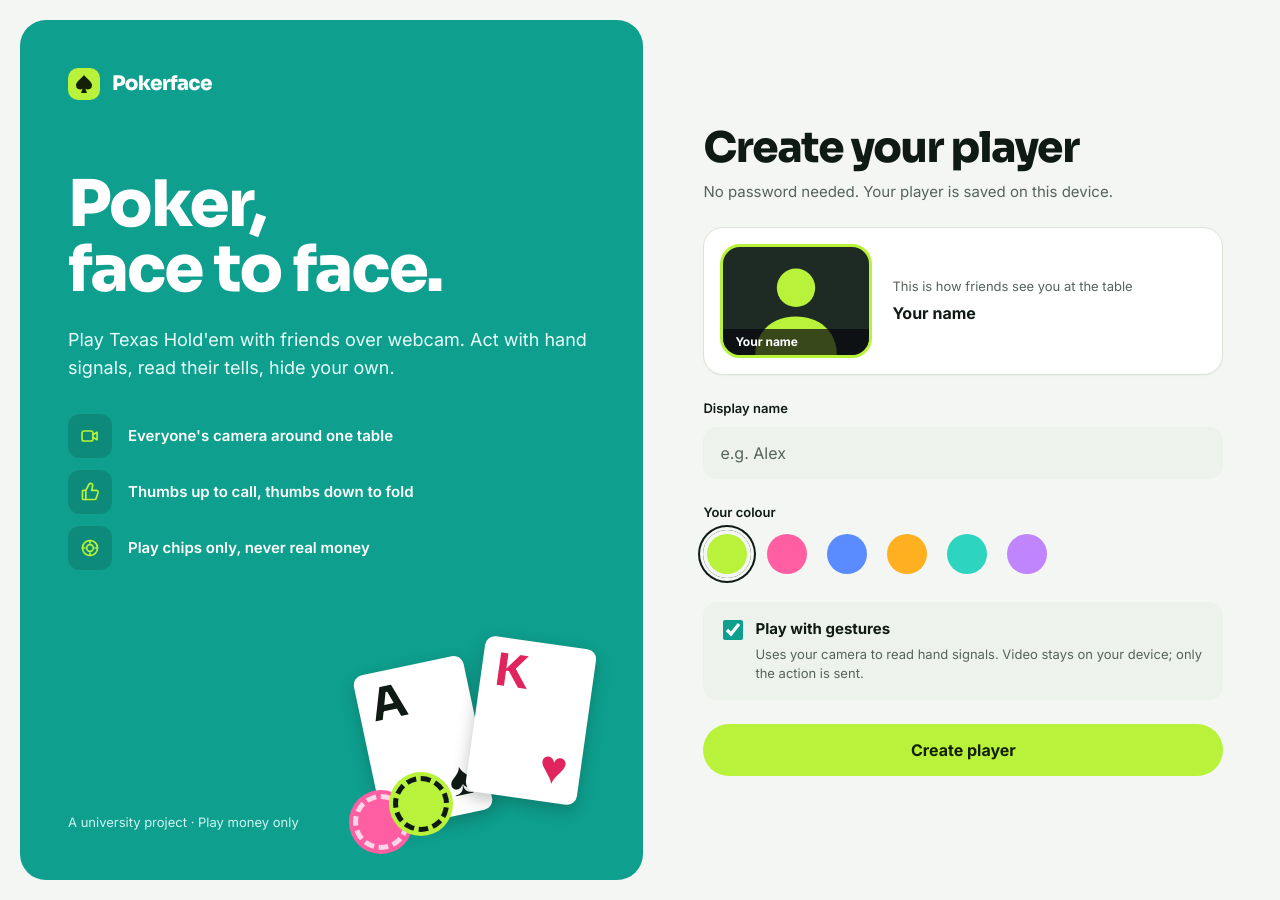
CreatePlayerPage › shows the service message when the name is rejected
Type "Alex" into the field labelled "Display name". click: [963, 453]
box: [703,427,1223,479]
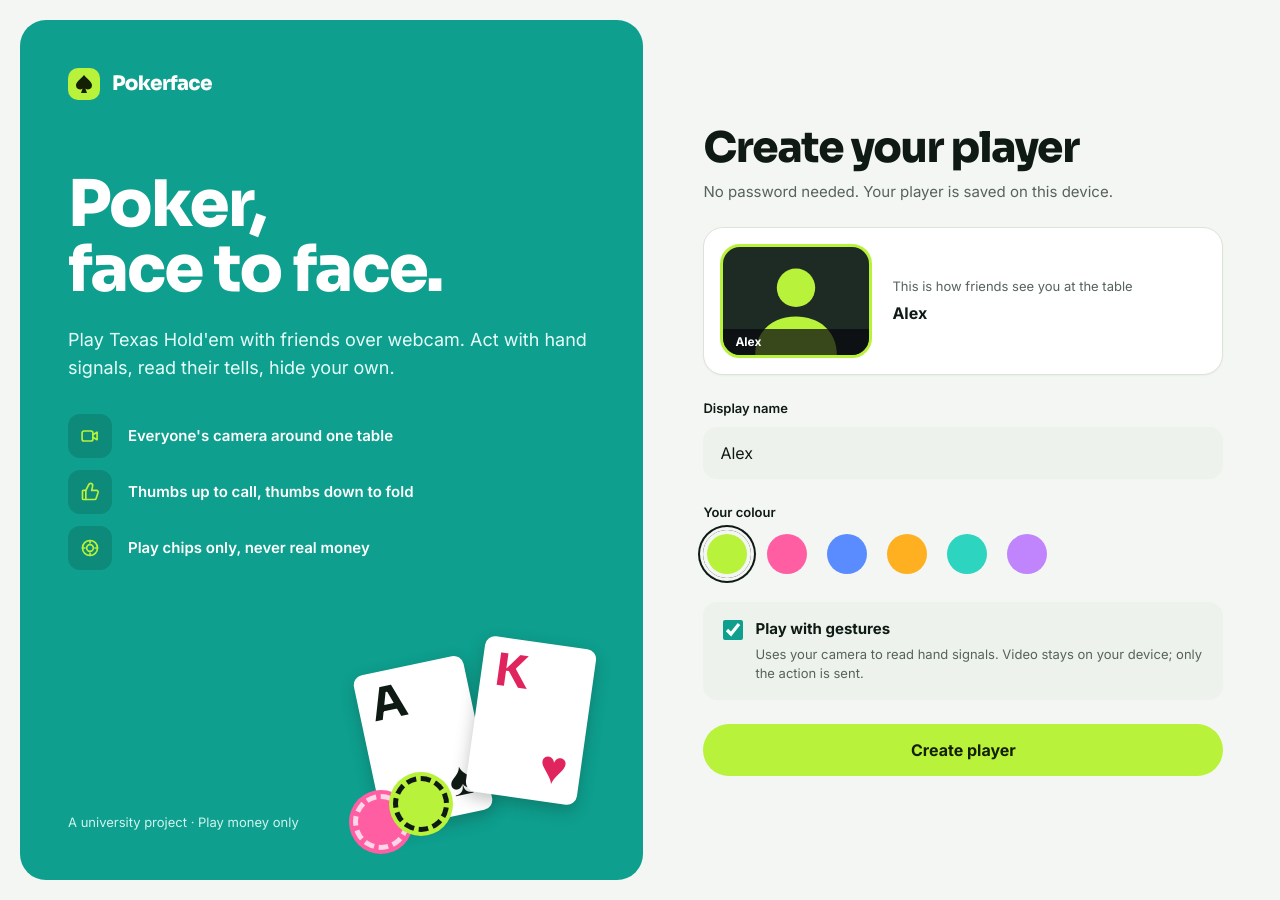
Click the button "Create player". click: [963, 750]
box: [703,724,1223,776]
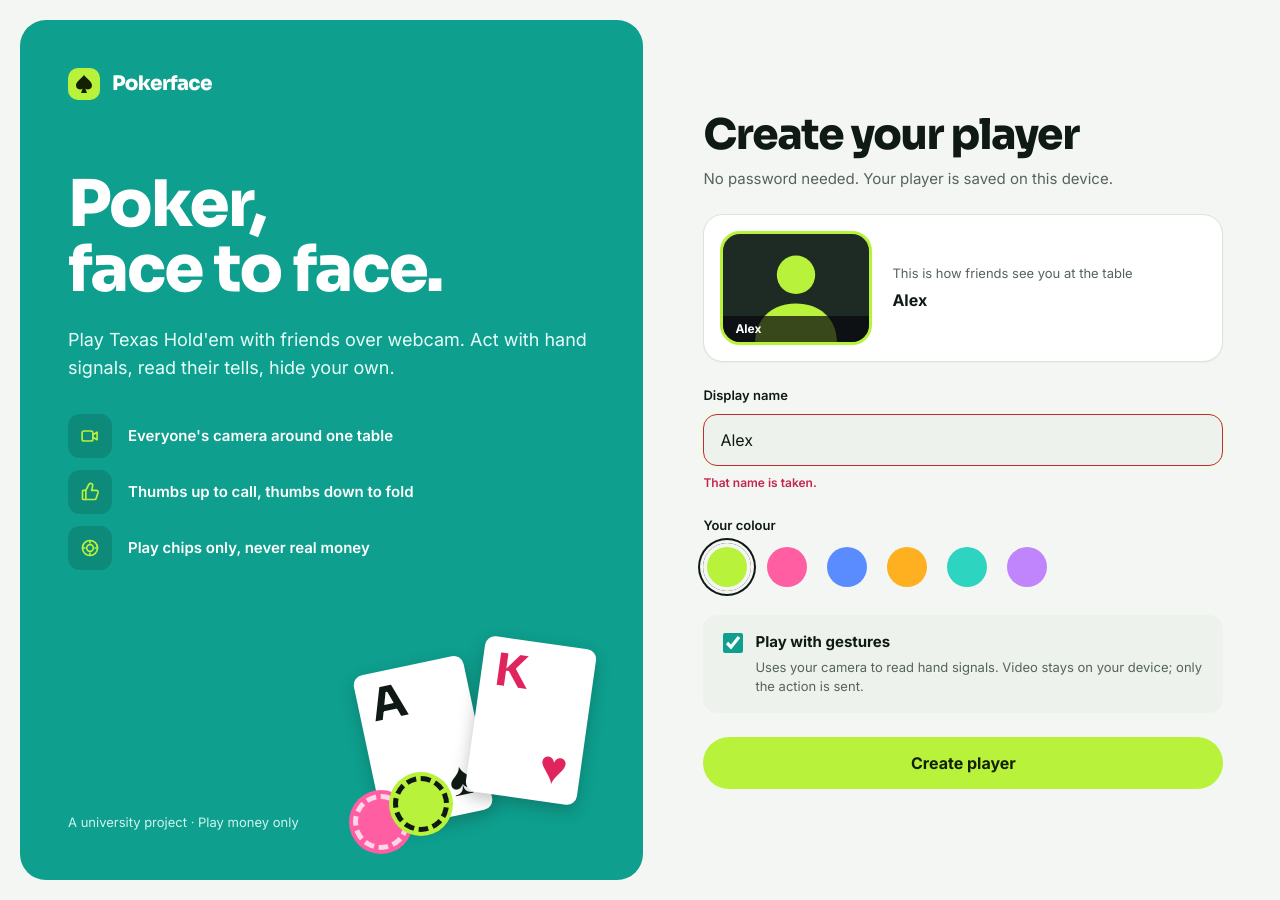
Expected: the text "That name is taken." is shown, [703,475,817,490]
